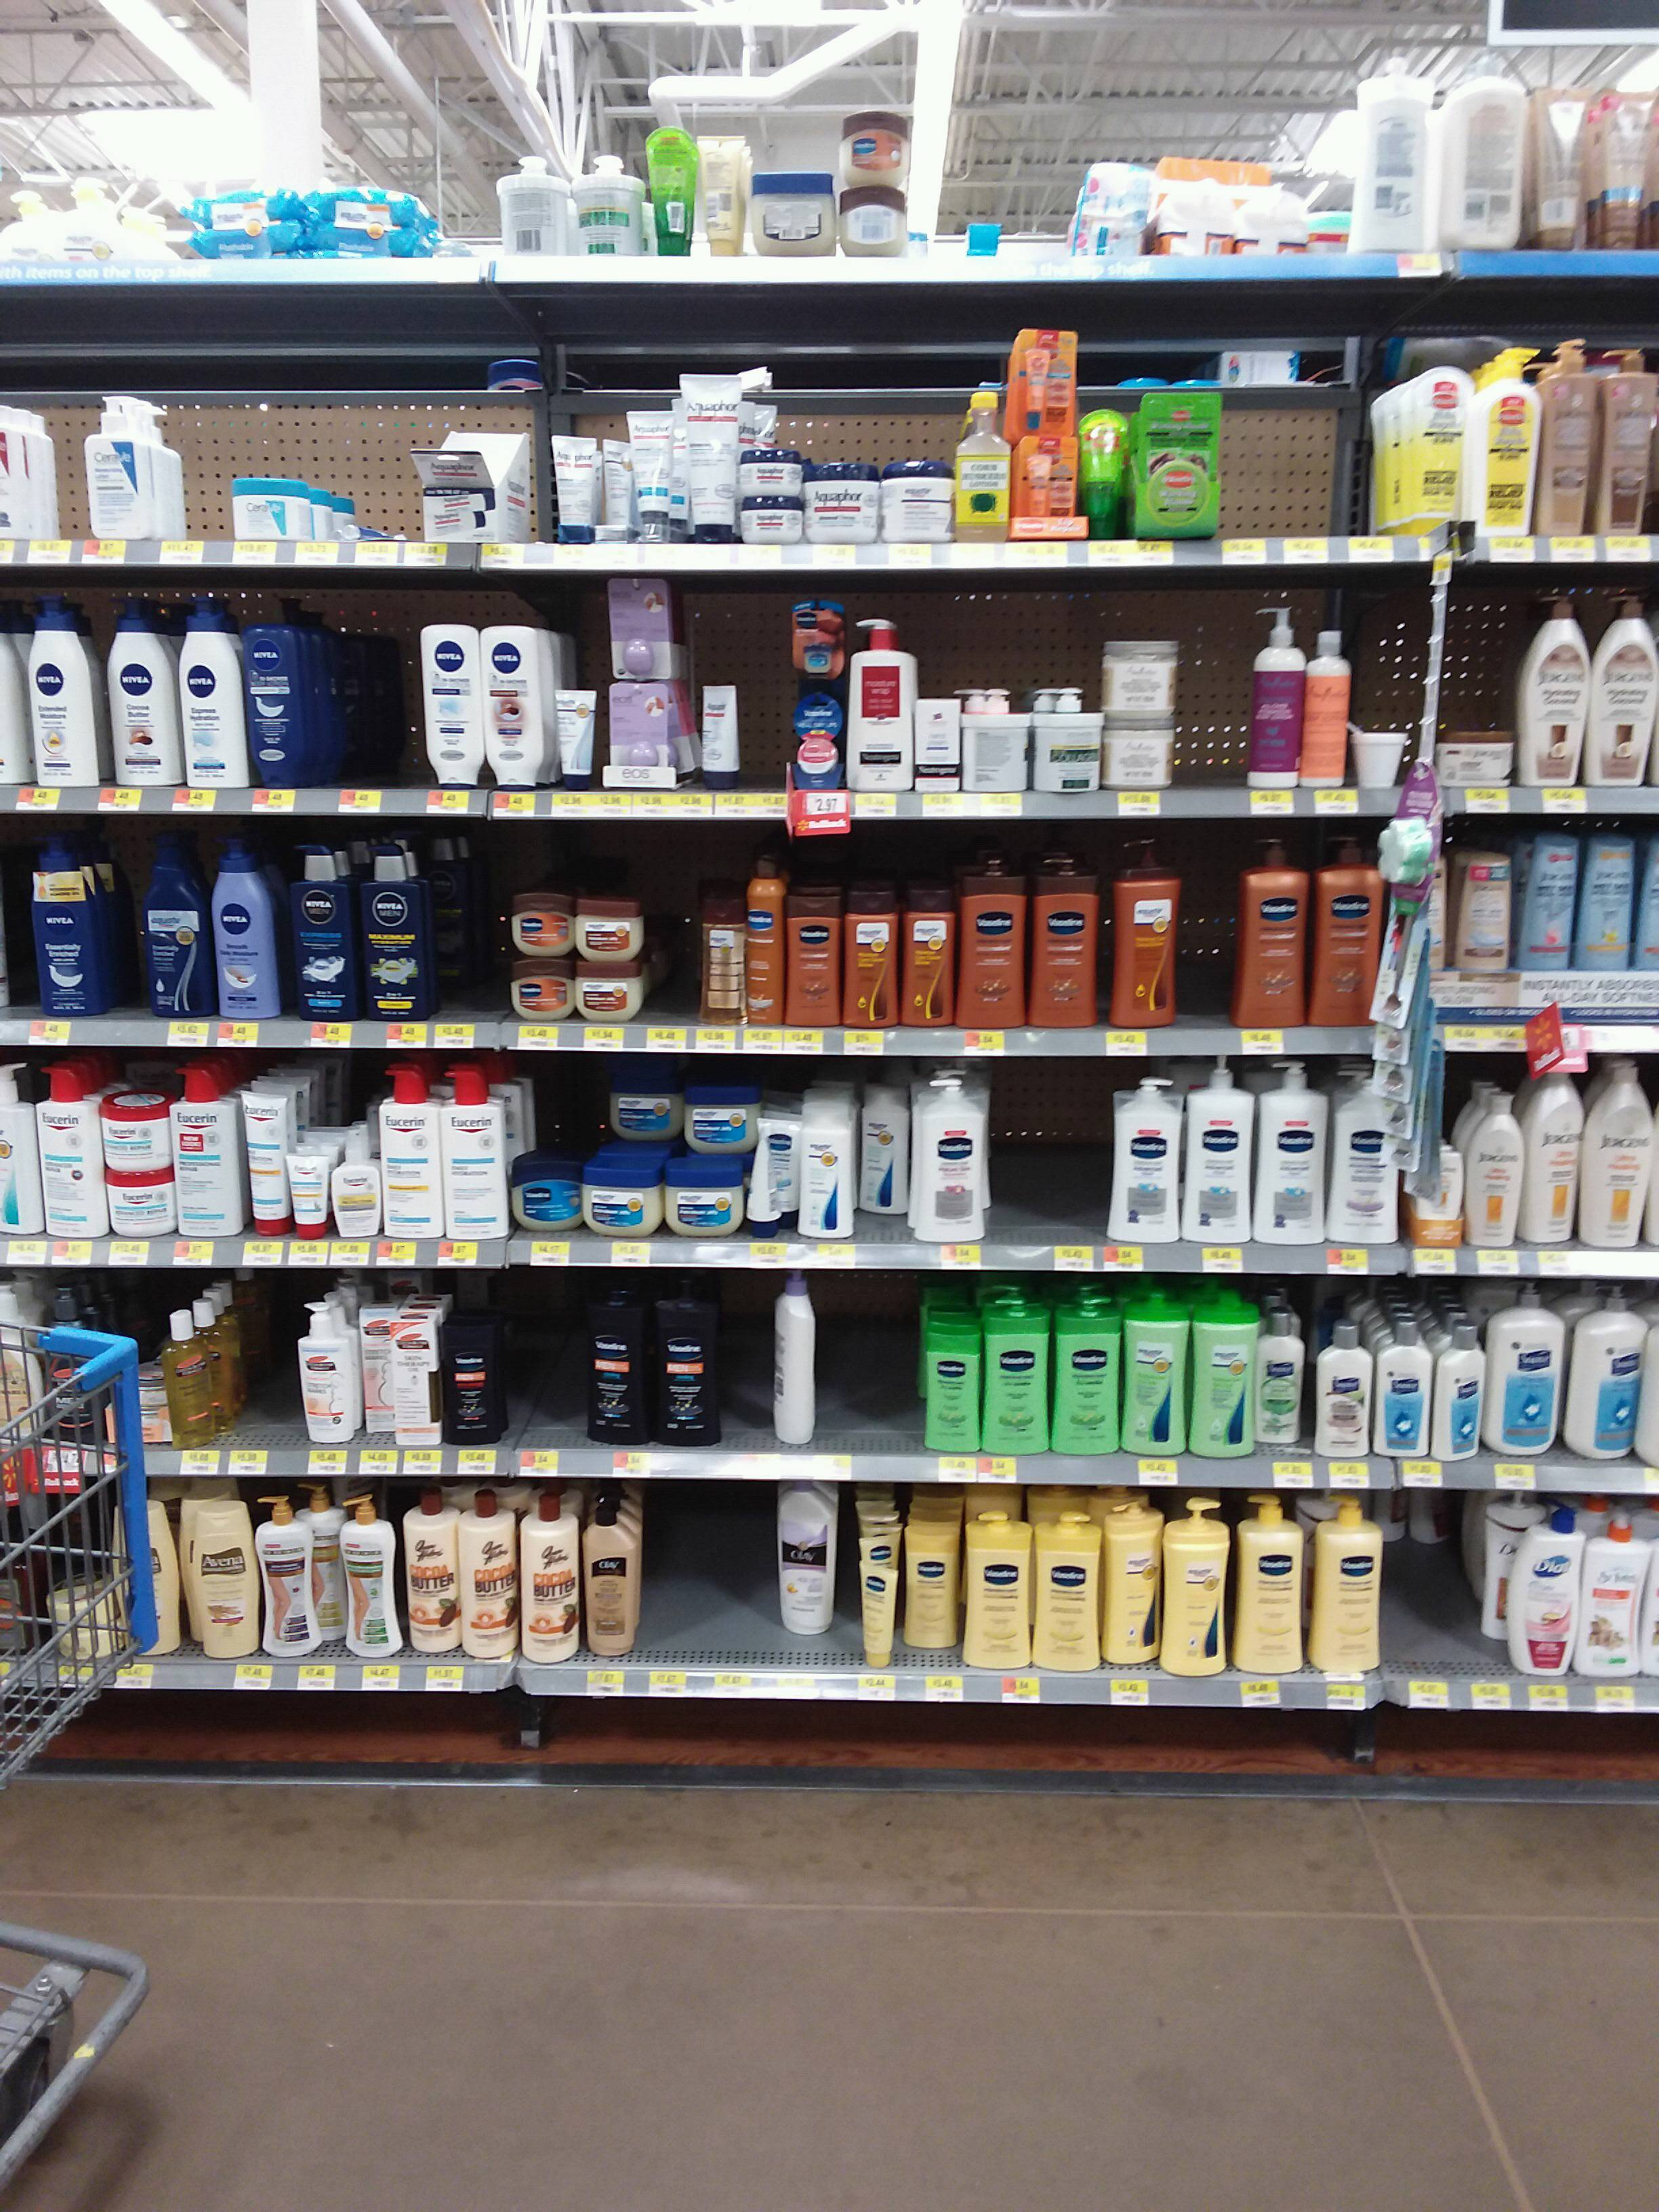product: (1432, 66, 1527, 249), (1565, 1280, 1643, 1479), (17, 596, 98, 789), (1485, 1270, 1563, 1467), (1019, 836, 1098, 1028), (1584, 590, 1659, 791), (207, 840, 286, 1028), (179, 599, 254, 794), (169, 1049, 244, 1244), (1176, 1054, 1251, 1247), (1157, 1494, 1232, 1684), (1105, 836, 1180, 1026), (1307, 1498, 1382, 1688), (1309, 827, 1380, 1026), (1391, 357, 1469, 536), (1352, 70, 1425, 261), (1236, 838, 1305, 1038), (1234, 1496, 1307, 1686), (136, 836, 211, 1019), (357, 846, 439, 1014), (957, 848, 1028, 1038), (103, 599, 174, 789), (441, 1057, 512, 1247), (915, 1069, 990, 1249), (1328, 1057, 1399, 1244), (643, 1291, 723, 1454), (1511, 596, 1579, 786), (845, 611, 915, 792), (284, 840, 354, 1019), (758, 1266, 823, 1460), (75, 383, 157, 535), (31, 833, 98, 1019), (1579, 1517, 1650, 1689), (1504, 1514, 1574, 1684), (420, 432, 528, 542), (1134, 394, 1215, 540), (186, 1494, 254, 1665), (976, 1303, 1049, 1460), (1046, 1303, 1119, 1460), (1171, 158, 1305, 244), (415, 622, 481, 794), (1481, 341, 1539, 540), (375, 1062, 437, 1244), (1595, 1061, 1654, 1249), (1258, 1062, 1319, 1244), (1183, 1306, 1251, 1467), (286, 1284, 352, 1447), (1542, 338, 1598, 531), (38, 1057, 98, 1238), (518, 1486, 577, 1665), (127, 1486, 186, 1665), (765, 1479, 831, 1639), (254, 1491, 317, 1660), (599, 681, 688, 799), (580, 1291, 647, 1449), (460, 1486, 519, 1662), (479, 613, 538, 787), (336, 1498, 396, 1670), (396, 1482, 455, 1653), (1115, 1068, 1175, 1238), (579, 1486, 634, 1665), (1124, 1303, 1185, 1467), (1248, 603, 1302, 787), (1523, 1047, 1572, 1249), (1527, 78, 1584, 249), (1035, 1519, 1101, 1667), (960, 1521, 1026, 1669), (382, 1310, 446, 1461), (1598, 338, 1647, 536), (251, 618, 307, 787), (680, 368, 734, 542), (1310, 1322, 1373, 1470), (1570, 838, 1635, 977), (793, 1113, 857, 1244), (157, 1313, 220, 1447), (1295, 634, 1347, 786), (1012, 446, 1091, 547), (903, 1514, 957, 1658), (1100, 1519, 1154, 1663), (960, 388, 1009, 547), (1377, 1322, 1431, 1465), (1429, 1315, 1483, 1458), (603, 568, 673, 678), (739, 848, 782, 1022), (788, 892, 843, 1028), (929, 1306, 978, 1461), (751, 167, 836, 254), (645, 115, 695, 261), (575, 155, 650, 253), (1605, 89, 1652, 244), (1256, 1310, 1309, 1449), (1098, 634, 1178, 725), (44, 183, 122, 275), (493, 155, 568, 251), (964, 688, 1032, 792), (904, 892, 957, 1028), (694, 883, 742, 1026), (1028, 686, 1094, 791), (1518, 841, 1568, 977), (671, 1160, 748, 1249), (690, 678, 751, 789), (444, 1310, 493, 1449), (1070, 158, 1145, 249), (1464, 852, 1513, 989), (843, 902, 897, 1026), (580, 1162, 666, 1238), (859, 1090, 908, 1224), (1023, 324, 1079, 439), (247, 1087, 289, 1238), (1408, 1143, 1466, 1252), (816, 469, 890, 550), (699, 125, 748, 251), (833, 99, 910, 178), (887, 463, 960, 545), (1474, 1085, 1511, 1249), (594, 1075, 674, 1146), (549, 678, 596, 794), (106, 1085, 169, 1172), (232, 479, 314, 545), (523, 1153, 582, 1244), (915, 688, 965, 792), (636, 413, 676, 540), (1347, 711, 1406, 796), (549, 434, 596, 540), (859, 1569, 903, 1681), (575, 892, 648, 958), (680, 1075, 735, 1160), (1101, 723, 1176, 786), (836, 181, 899, 256), (570, 956, 638, 1024), (328, 1129, 364, 1247), (742, 1129, 781, 1238), (1091, 416, 1124, 542), (106, 1176, 166, 1244), (1431, 738, 1516, 786), (509, 897, 572, 956), (509, 961, 568, 1019), (293, 1153, 326, 1244), (310, 190, 411, 219), (199, 206, 300, 235), (199, 233, 300, 263), (310, 232, 411, 261), (735, 503, 803, 547), (744, 446, 800, 498)
